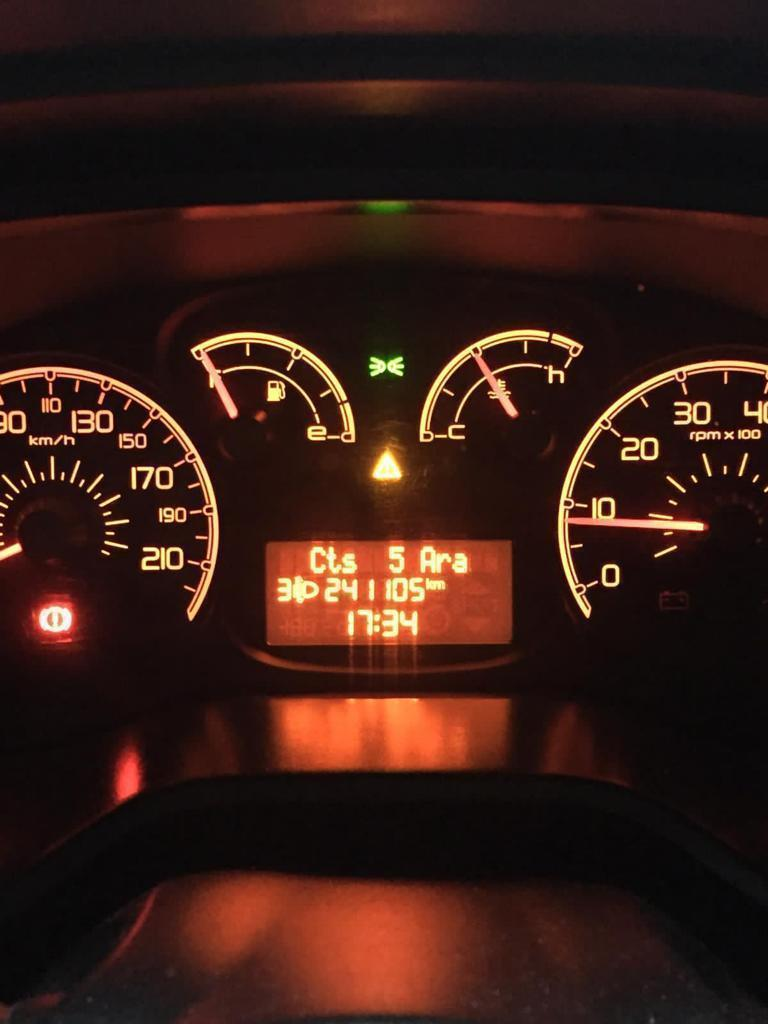0: (392, 576, 408, 603)
1: (363, 575, 378, 602), (344, 608, 355, 637), (382, 575, 392, 602)
2: (323, 575, 340, 604)
3: (381, 607, 398, 638), (276, 576, 292, 603)
4: (398, 609, 419, 636), (341, 575, 359, 601)
5: (386, 543, 406, 574), (408, 576, 424, 602)
7: (356, 607, 373, 637)
X: (309, 543, 326, 576), (418, 543, 436, 574), (326, 543, 341, 575), (451, 550, 469, 574), (341, 551, 358, 575), (436, 550, 451, 573), (432, 578, 445, 591), (373, 612, 380, 633), (424, 576, 432, 591)
odometer: (262, 536, 514, 648)
